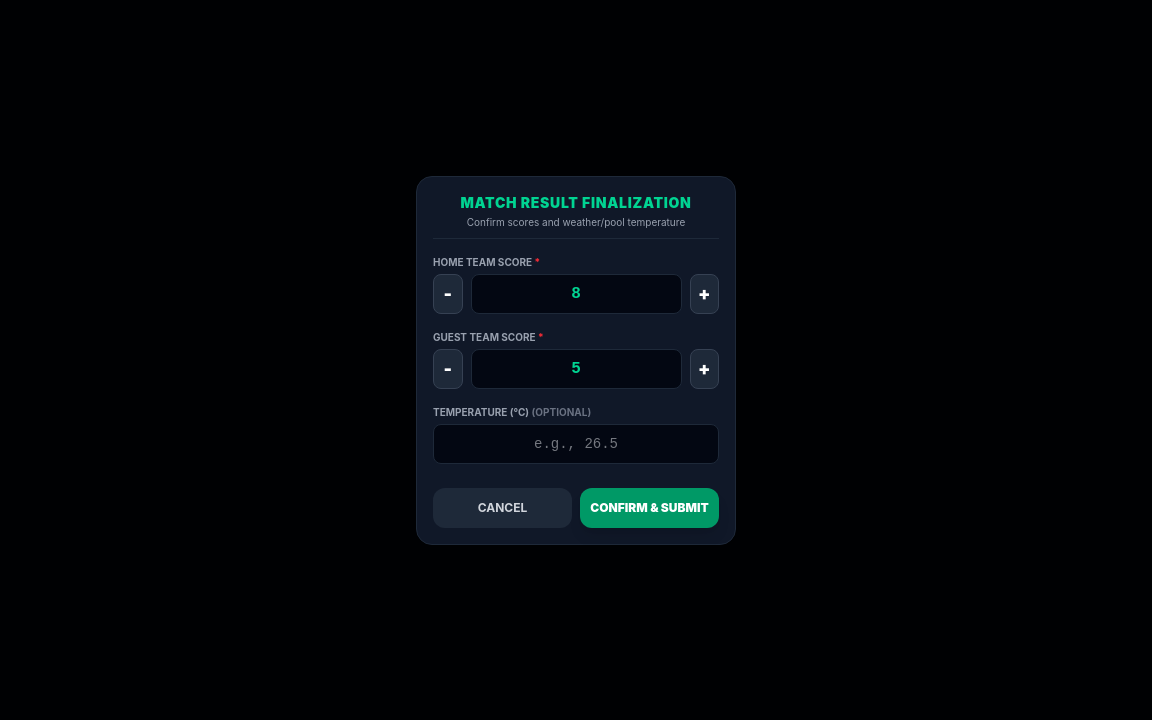
Test: MatchResultModal Component › should display error message alert when finalization service fails
Click the button "Confirm & Submit".
click(650, 508)  # box [580,488,719,528]
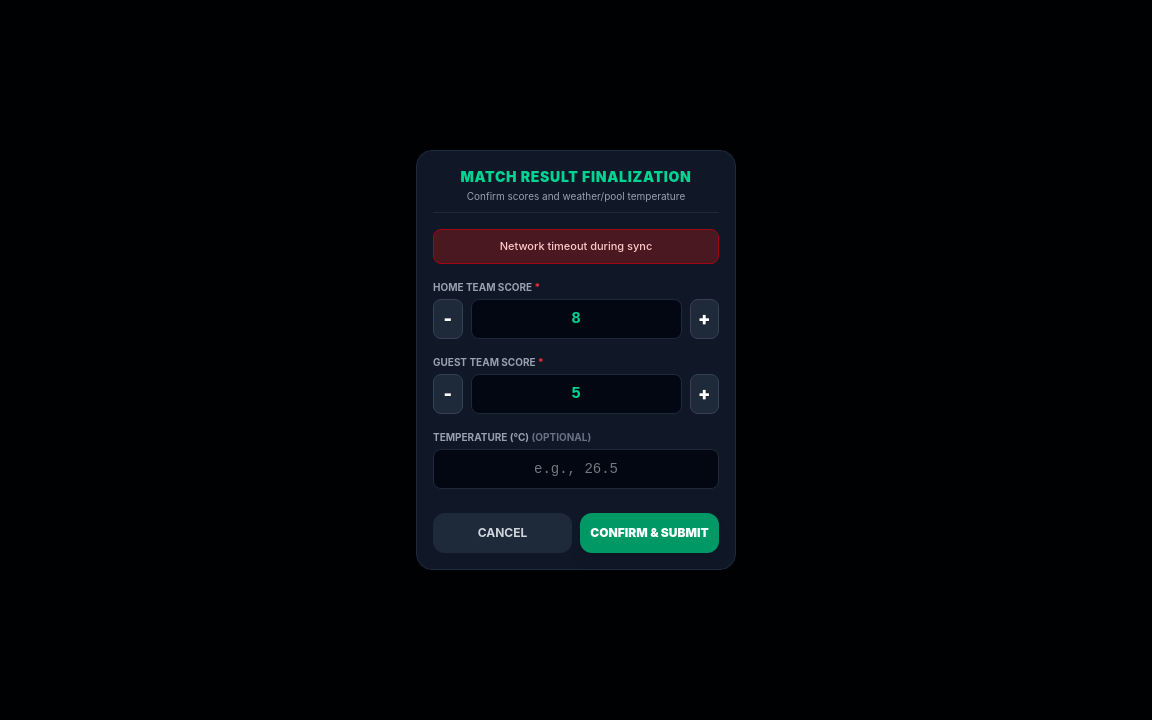
expect the message reads "Network timeout during sync": met, box [500,239,652,253]
